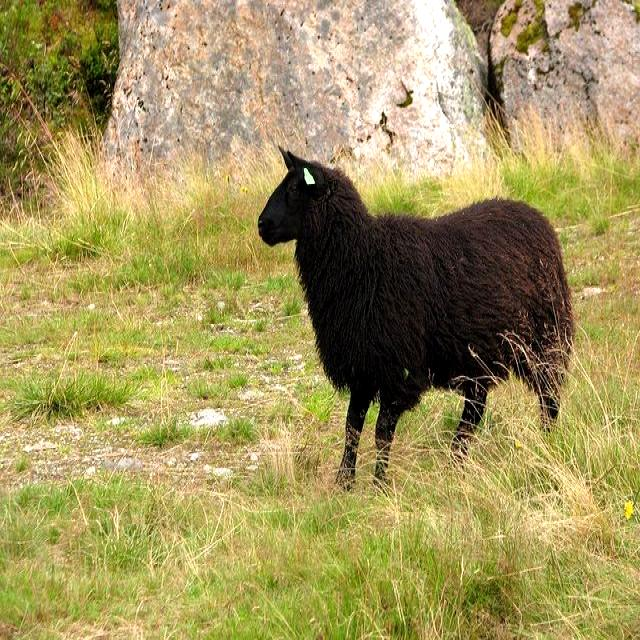sheep: (253, 146, 574, 493)
